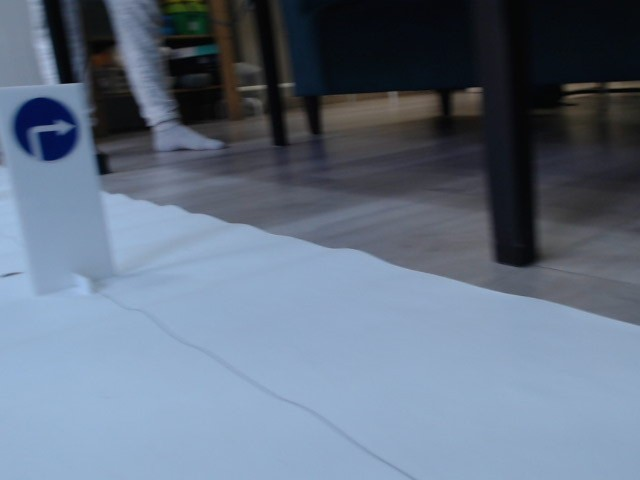Right: (10, 95, 81, 164)
